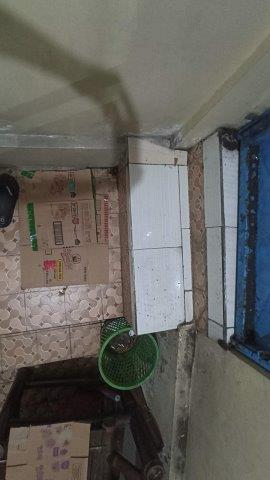kardus: (20, 170, 107, 287), (7, 423, 90, 480)
